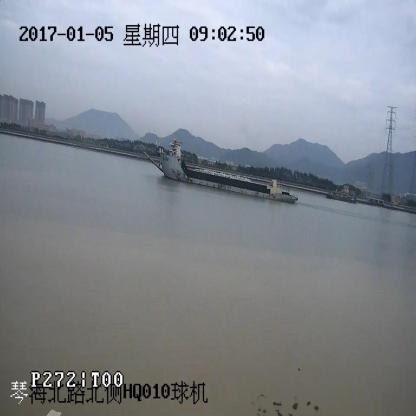Bulk Carrier: (146, 143, 295, 203)
